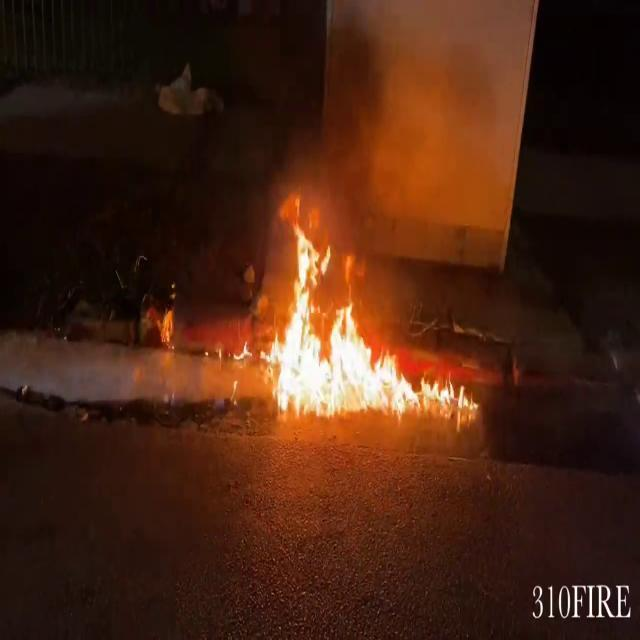Fire: (258, 194, 477, 422)
Smoke: (281, 0, 540, 236)
